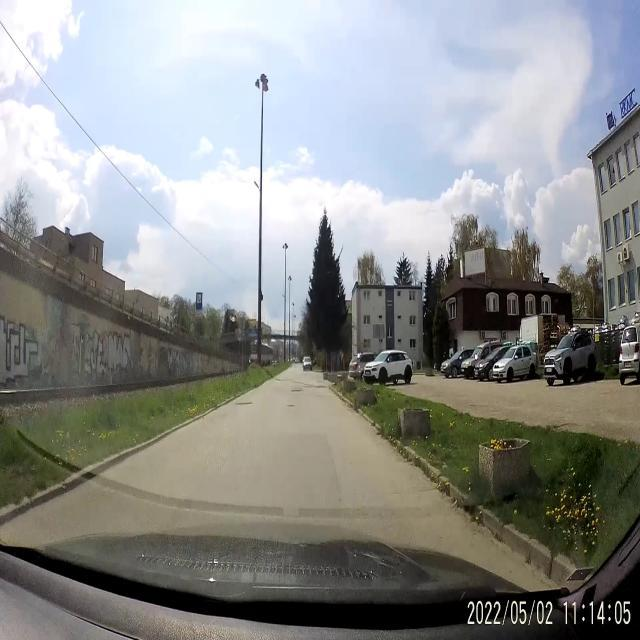Pothole: (234, 397, 252, 412), (290, 387, 304, 396), (286, 402, 296, 410)
